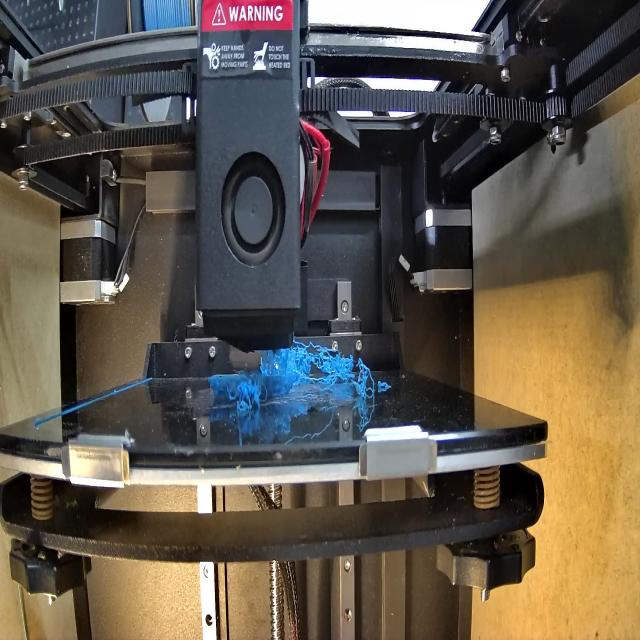spaghetti: (266, 342, 364, 388), (230, 365, 272, 411), (356, 362, 374, 400)
